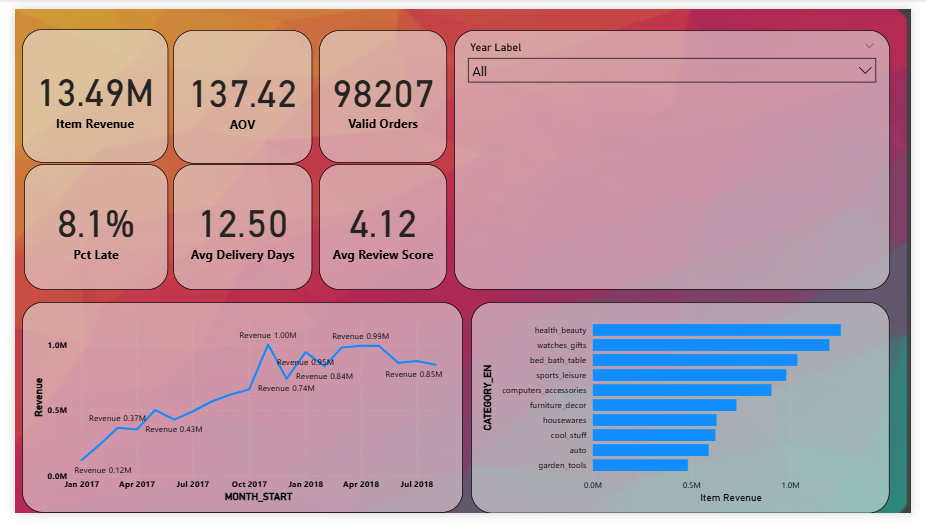

This screenshot's page, from the dashboard's own definition file:
{"tool":"powerbi","page":{"name":"Overview","canvas":[1280,720],"ordinal":0},"visuals":[{"type":"card","fields":{"Values":["FACT_ORDERS.Item Revenue"]},"box":[10,28.6,208.6,191.4],"z":0},{"type":"card","fields":{"Values":["FACT_ORDERS.Avg Review Score"]},"box":[434.3,221.4,182.9,180],"z":1},{"type":"card","fields":{"Values":["FACT_ORDERS.Avg Delivery Days"]},"box":[225.7,221.4,198.6,180],"z":2},{"type":"card","fields":{"Values":["FACT_ORDERS.AOV"]},"box":[225.7,30,198.6,191.4],"z":3},{"type":"card","fields":{"Values":["FACT_ORDERS.Pct Late"]},"box":[12.9,221.4,205.7,180],"z":4},{"type":"card","fields":{"Values":["FACT_ORDERS.Valid Orders"]},"box":[434.3,30,182.9,190],"z":7},{"type":"lineChart","fields":{"Y":["FACT_ORDERS.Revenue"],"Category":["DIM_DATE.MONTH_START"]},"box":[10,418.6,630,301.4],"z":8},{"type":"barChart","fields":{"Category":["DIM_PRODUCT.CATEGORY_EN"],"Y":["FACT_ORDERS.Item Revenue"]},"box":[651.8,418.3,598,302.4],"z":10},{"type":"slicer","fields":{"Values":["DIM_DATE.Year Label"]},"box":[627.1,30,622.9,371.4],"z":11}]}

Visuals, with their boxes in screenshot pixels (x1, y1, x2, y2), scaled from the page's 1280x720 canvas onto the 926x527 screenshot:
card - FACT_ORDERS.Item Revenue: {"left": 7, "top": 21, "right": 158, "bottom": 161}
card - FACT_ORDERS.Avg Review Score: {"left": 314, "top": 162, "right": 447, "bottom": 294}
card - FACT_ORDERS.Avg Delivery Days: {"left": 163, "top": 162, "right": 307, "bottom": 294}
card - FACT_ORDERS.AOV: {"left": 163, "top": 22, "right": 307, "bottom": 162}
card - FACT_ORDERS.Pct Late: {"left": 9, "top": 162, "right": 158, "bottom": 294}
card - FACT_ORDERS.Valid Orders: {"left": 314, "top": 22, "right": 447, "bottom": 161}
lineChart - FACT_ORDERS.Revenue x DIM_DATE.MONTH_START: {"left": 7, "top": 306, "right": 463, "bottom": 526}
barChart - DIM_PRODUCT.CATEGORY_EN x FACT_ORDERS.Item Revenue: {"left": 472, "top": 306, "right": 904, "bottom": 526}
slicer - DIM_DATE.Year Label: {"left": 454, "top": 22, "right": 904, "bottom": 294}
